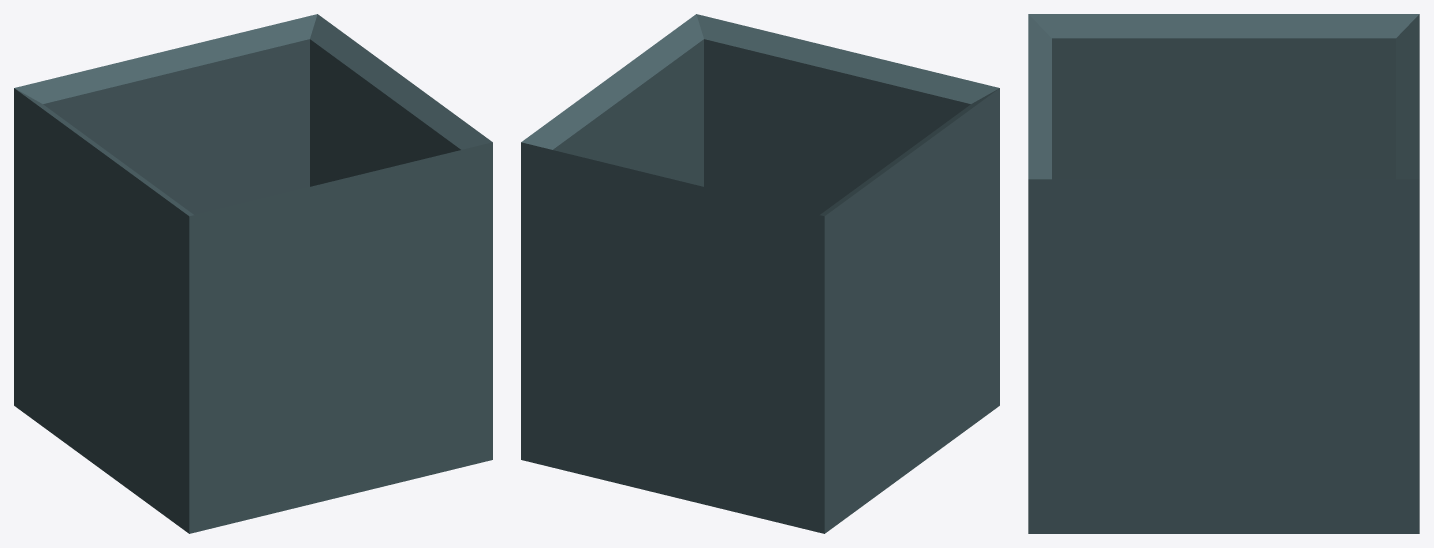
File: demo_scene_pipe1.obj
The picture shows the model from 3 angles, left to right: view 1: azimuth 30°, elevation 25°; view 2: azimuth 150°, elevation 25°; view 3: azimuth 270°, elevation 25°; orthographic projection. The views are drawn at different scales.
Visible parts, largest first — view 1: water_container_water_container_mesh; view 2: water_container_water_container_mesh; view 3: water_container_water_container_mesh.
Boxes of the visible parts, x1=… form: water_container_water_container_mesh: x1=14, y1=14, x2=492, y2=533; water_container_water_container_mesh: x1=521, y1=14, x2=999, y2=533; water_container_water_container_mesh: x1=1028, y1=14, x2=1419, y2=533.
Bounding box in the file's own units: 10.77 × 10.77 × 10.77.
